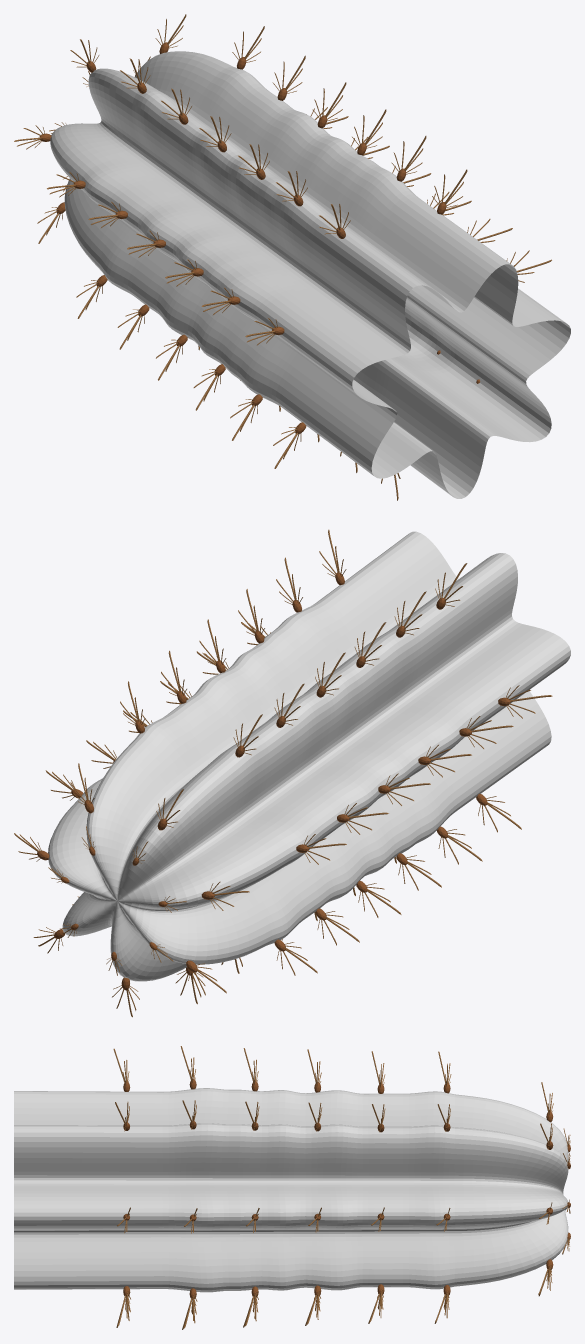
File: frame-118.glb
3 views of the same model, one above another, from view 1: azimuth 30°, elevation 25°; view 2: azimuth 150°, elevation 25°; view 3: azimuth 270°, elevation 25° (orthographic). The views are drawn at different scales.
Parts seen in each view (by area): view 1: WACHUMA_Pachanoi_Frame_118; view 2: WACHUMA_Pachanoi_Frame_118; view 3: WACHUMA_Pachanoi_Frame_118.
Boxes of the visible parts, <box> form: WACHUMA_Pachanoi_Frame_118: <box>14,14,570,500</box>; WACHUMA_Pachanoi_Frame_118: <box>14,529,570,1017</box>; WACHUMA_Pachanoi_Frame_118: <box>14,1046,570,1329</box>.
Bounding box in the file's own units: 1.22 × 1.19 × 2.34.
